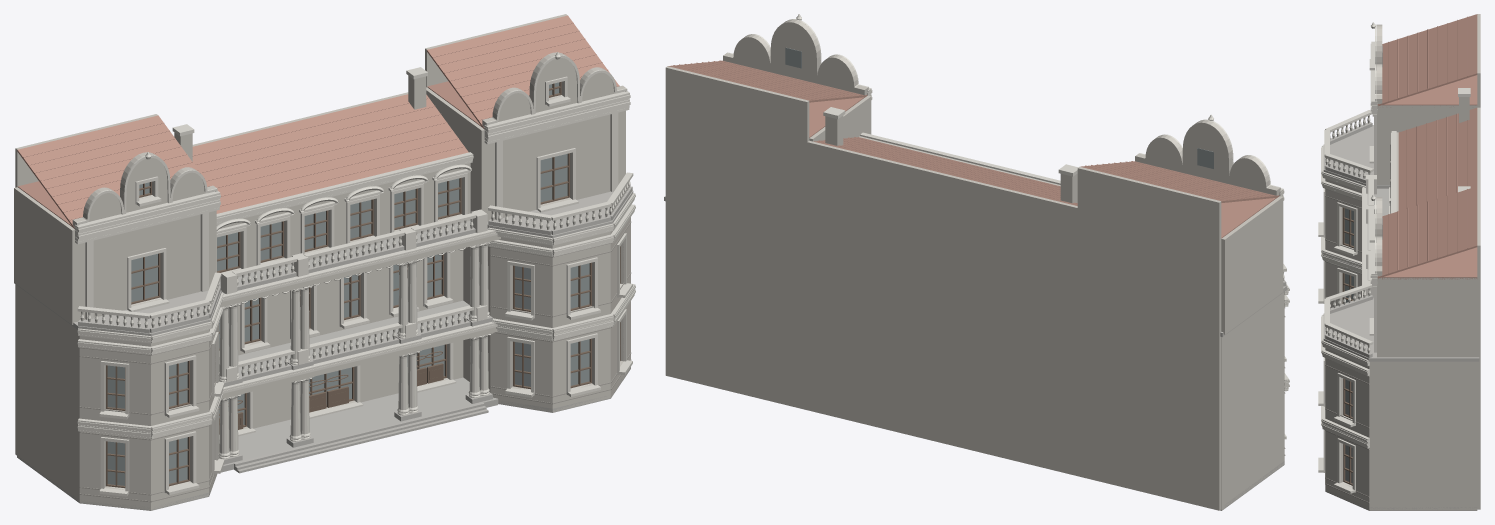
The model's file is jingan-wenlian-old-house-lod.glb.
3 renders of one model, left to right at view 1: azimuth 30°, elevation 25°; view 2: azimuth 150°, elevation 25°; view 3: azimuth 270°, elevation 25°, orthographic. The views are drawn at different scales.
Visible parts, largest first — view 1: 文联老楼南园面; view 2: 文联老楼南园面; view 3: 文联老楼南园面.
Boxes of the visible parts, left/top/right/bottom form: 文联老楼南园面: left=14, top=14, right=635, bottom=510; 文联老楼南园面: left=664, top=14, right=1289, bottom=510; 文联老楼南园面: left=1318, top=14, right=1480, bottom=510.
Size of the model in its own units: 30.69 by 17.49 by 8.98.
